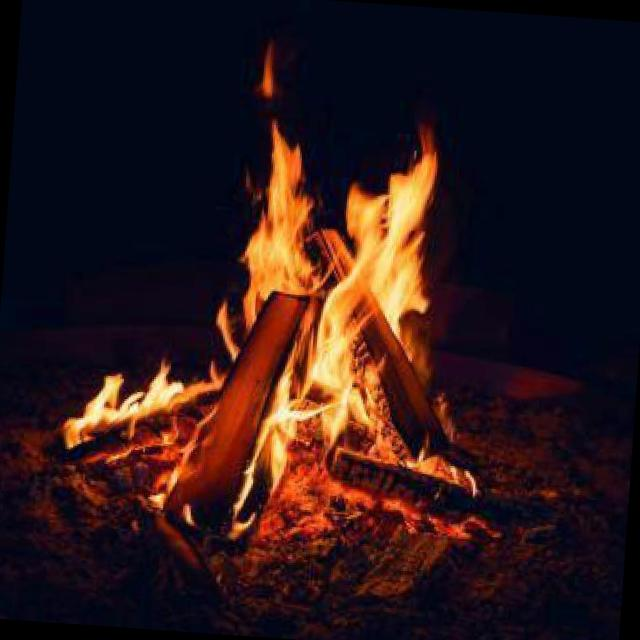Fire: (56, 55, 459, 538)
